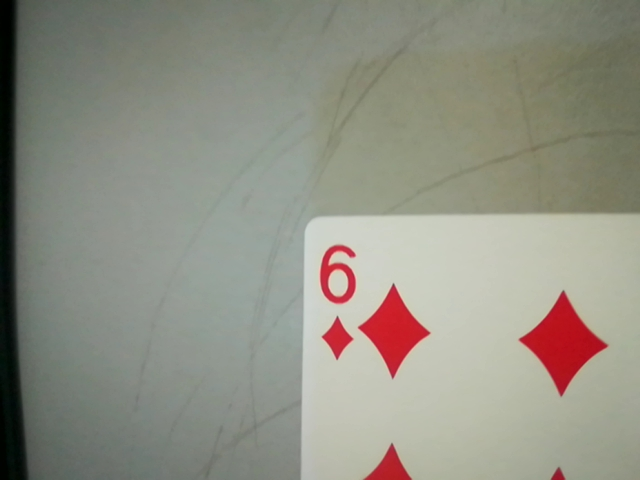fk 6: (307, 235, 367, 366)
